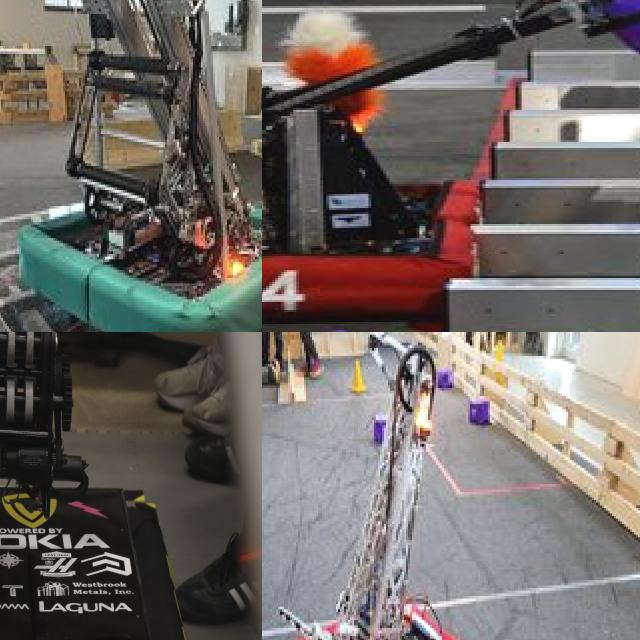FRC-Robots: (262, 0, 640, 321), (11, 0, 262, 332), (0, 332, 253, 640), (262, 352, 526, 640)
